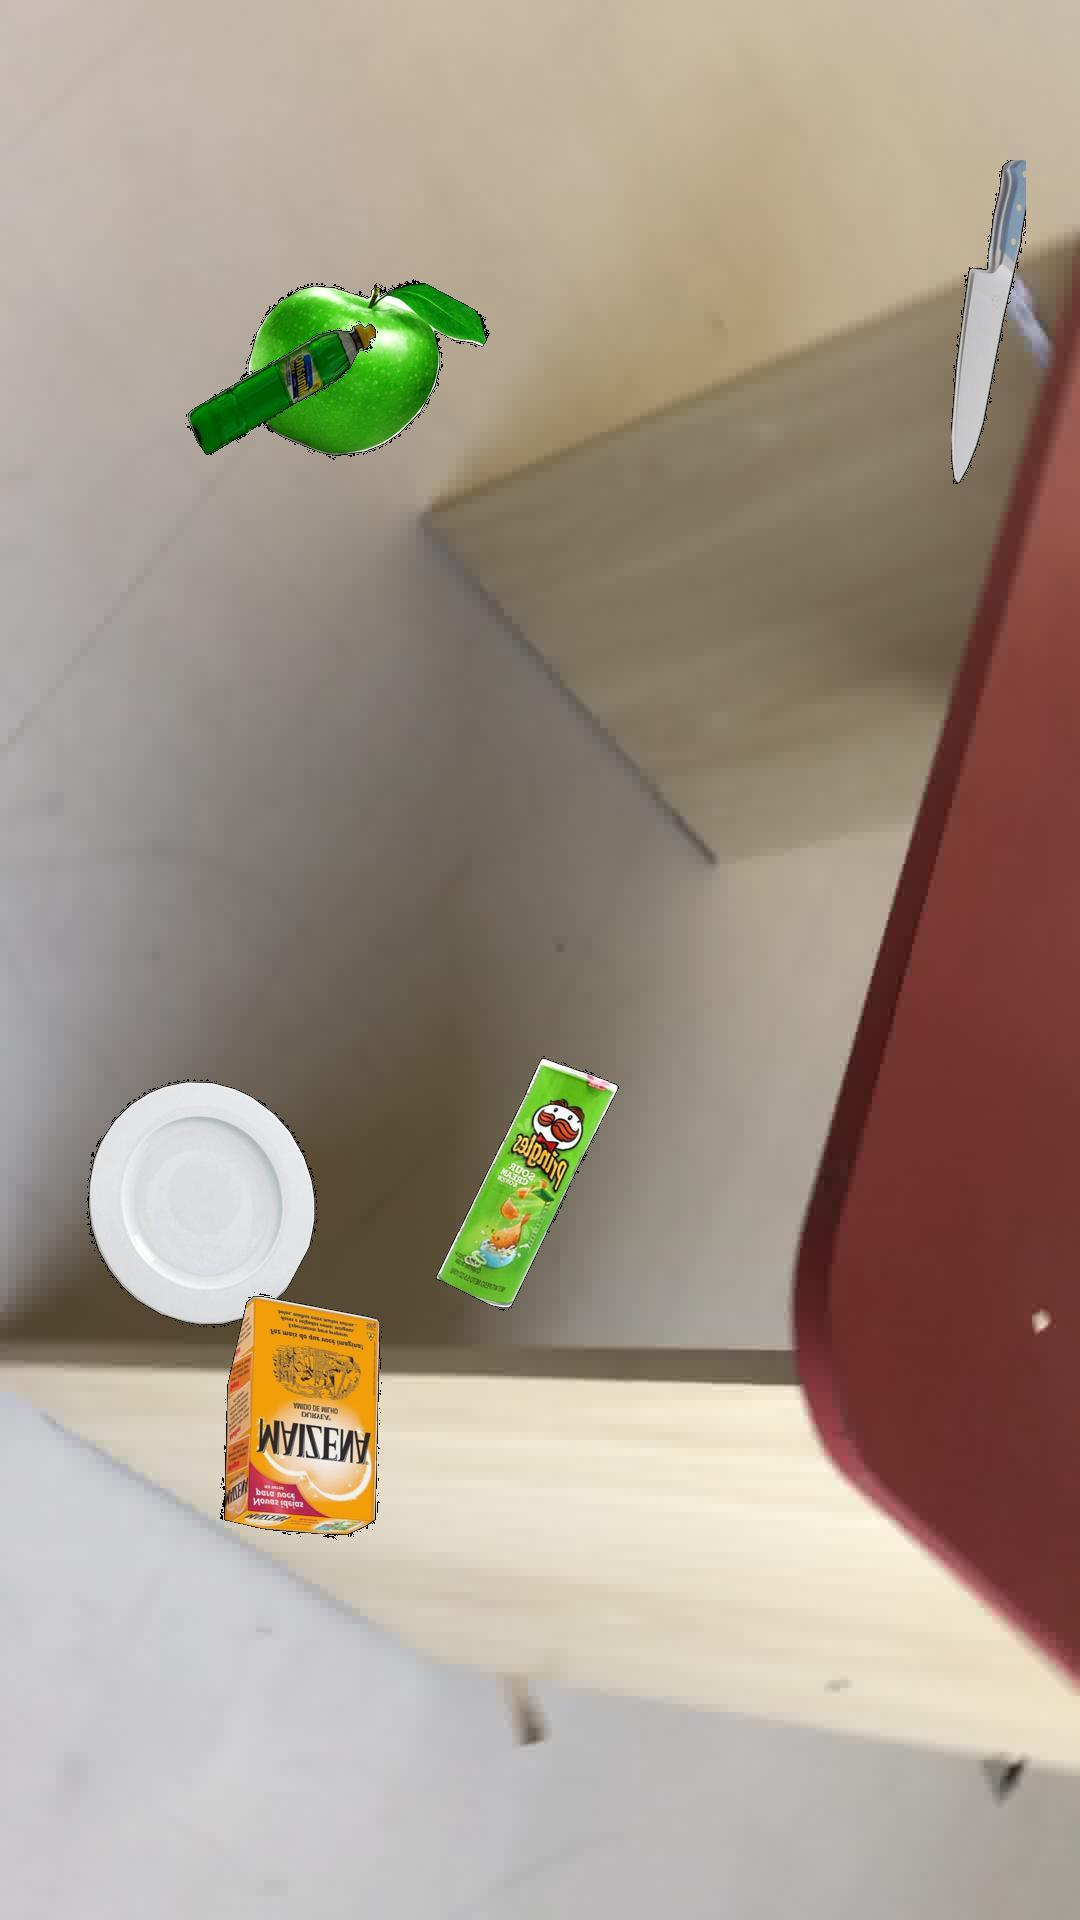cleaner: (186, 323, 375, 454)
green apple: (244, 277, 488, 455)
knife: (949, 158, 1025, 483)
plate: (86, 1077, 315, 1324)
pringles: (434, 1056, 617, 1307)
